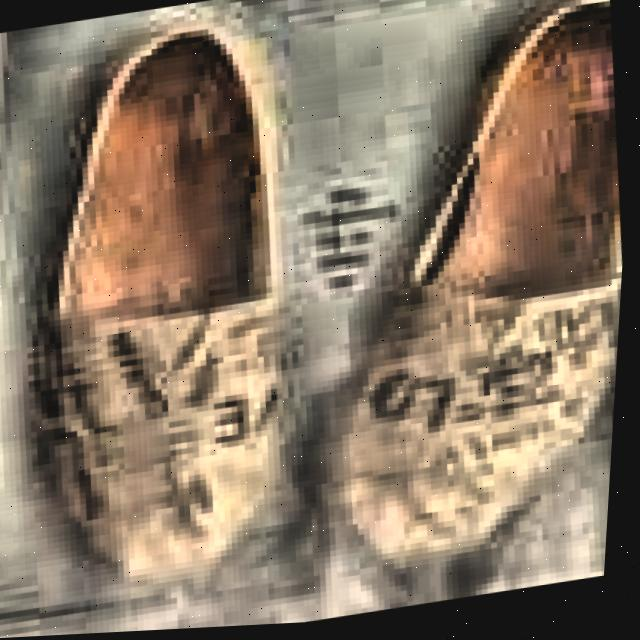paper: (0, 0, 626, 639)
